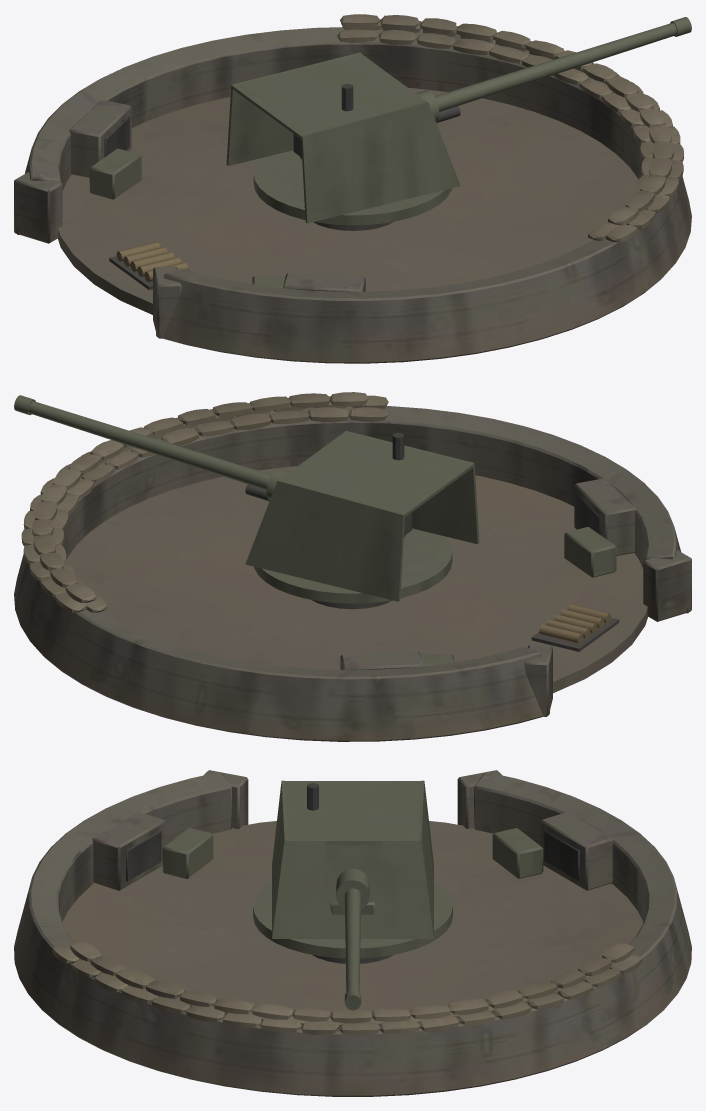
File: a01_battery_gun.glb
3 renders of one model, top to bottom at view 1: azimuth 30°, elevation 25°; view 2: azimuth 150°, elevation 25°; view 3: azimuth 270°, elevation 25°, orthographic.
Parts seen in each view (by area): view 1: body; view 2: body; view 3: body.
Part boxes in pixels (x1,y1,x2,y2): body: (14, 14, 691, 363); body: (14, 392, 691, 741); body: (14, 770, 691, 1096).
Bounding box in the file's own units: 0.9997 × 0.2473 × 0.9728.
1 material, 1 textured.
